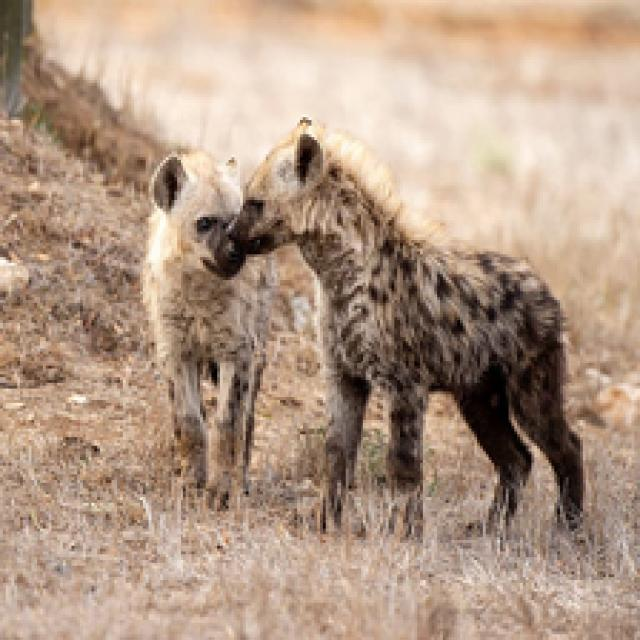hyena: (217, 135, 599, 486), (130, 125, 270, 515)
